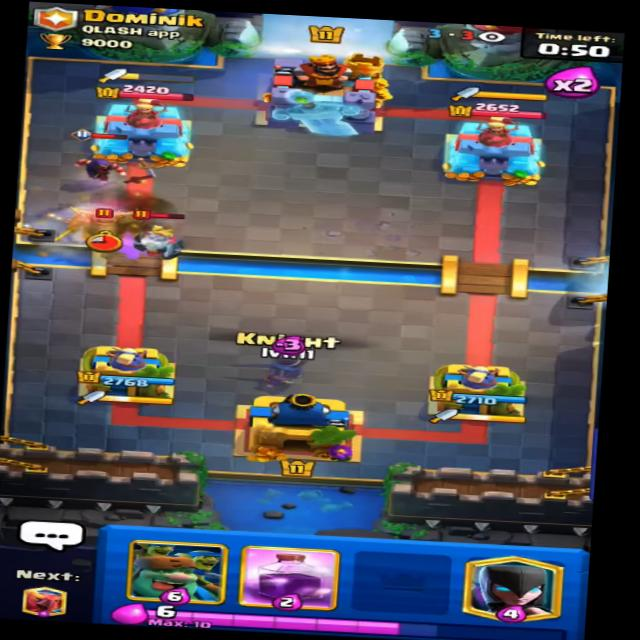evo-wizard: (69, 127, 134, 190)
pekka: (56, 201, 145, 254)
royal-ghost: (121, 210, 199, 263)
